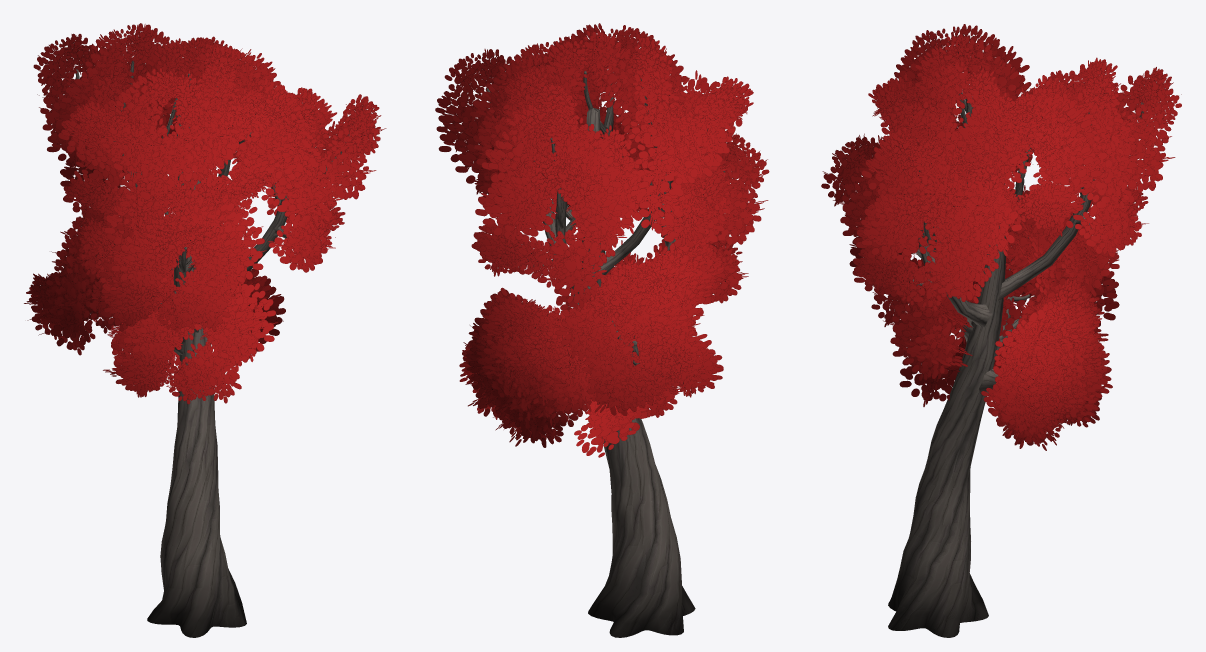
File: TwistedTree_5.gltf
The picture shows the model from 3 angles, left to right: view 1: azimuth 30°, elevation 25°; view 2: azimuth 150°, elevation 25°; view 3: azimuth 270°, elevation 25°; orthographic projection. The views are drawn at different scales.
Parts seen in each view (by area): view 1: TwistedTree_5; view 2: TwistedTree_5; view 3: TwistedTree_5.
Boxes of the visible parts, x1,y1,x2,y2 form: TwistedTree_5: (24,23,386,637); TwistedTree_5: (435,23,769,637); TwistedTree_5: (821,24,1181,637).
Bounding box in the file's own units: 9.49 × 15.66 × 9.39.
2 materials, 2 textured.
